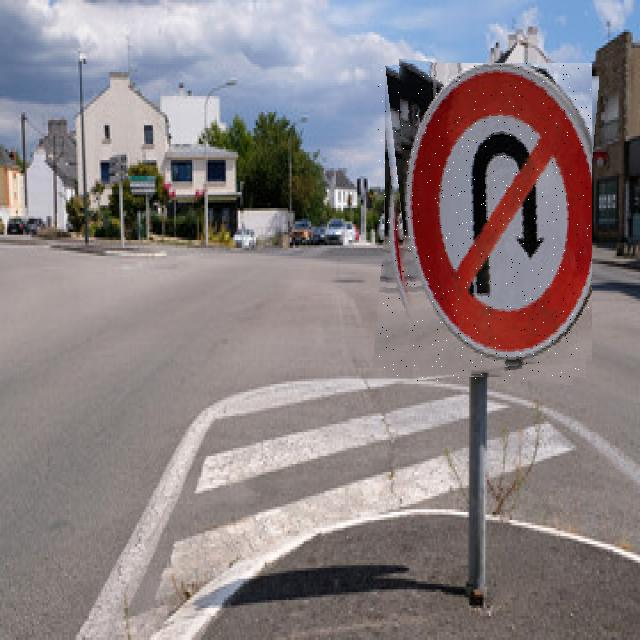no u turn: (378, 63, 592, 381)
